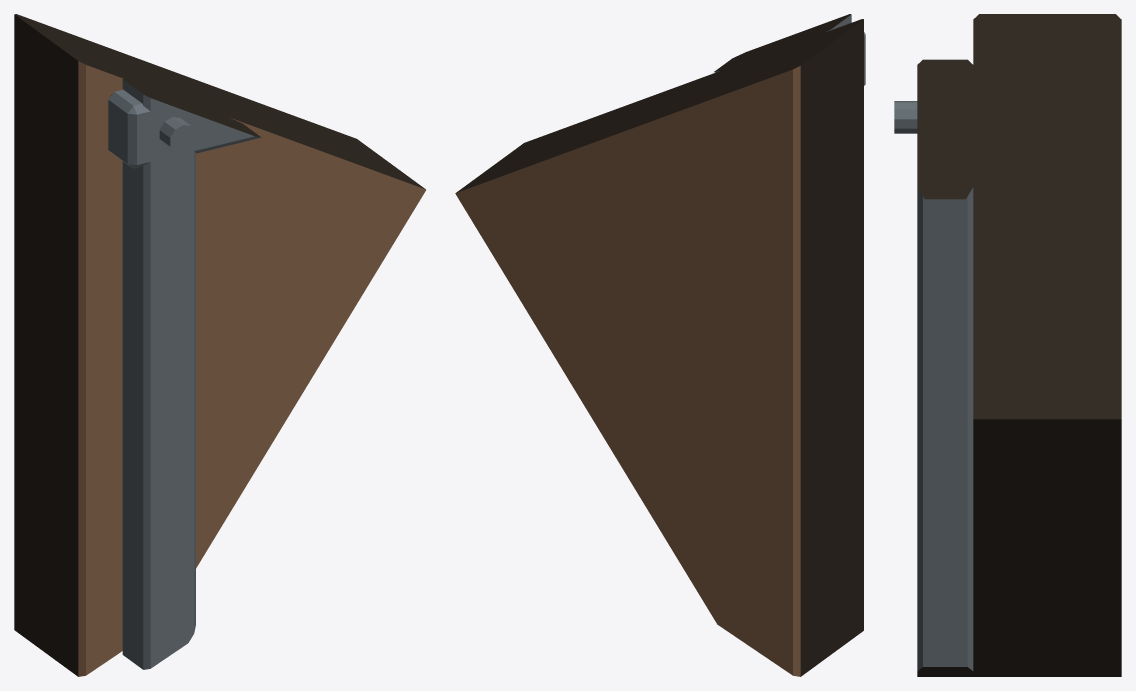
Rendered from SM_DoorShard_01_14.fbx.
3 renders of one model, left to right at view 1: azimuth 30°, elevation 25°; view 2: azimuth 150°, elevation 25°; view 3: azimuth 270°, elevation 25°, orthographic. The views are drawn at different scales.
Parts seen in each view (by area): view 1: SM_DoorShard_01_14; view 2: SM_DoorShard_01_14; view 3: SM_DoorShard_01_14.
Part boxes in pixels (<box>): SM_DoorShard_01_14: <box>14,14,425,676</box>; SM_DoorShard_01_14: <box>455,14,865,676</box>; SM_DoorShard_01_14: <box>894,14,1121,676</box>.
Bounding box in the file's own units: 45.87 × 24.5 × 78.19.
